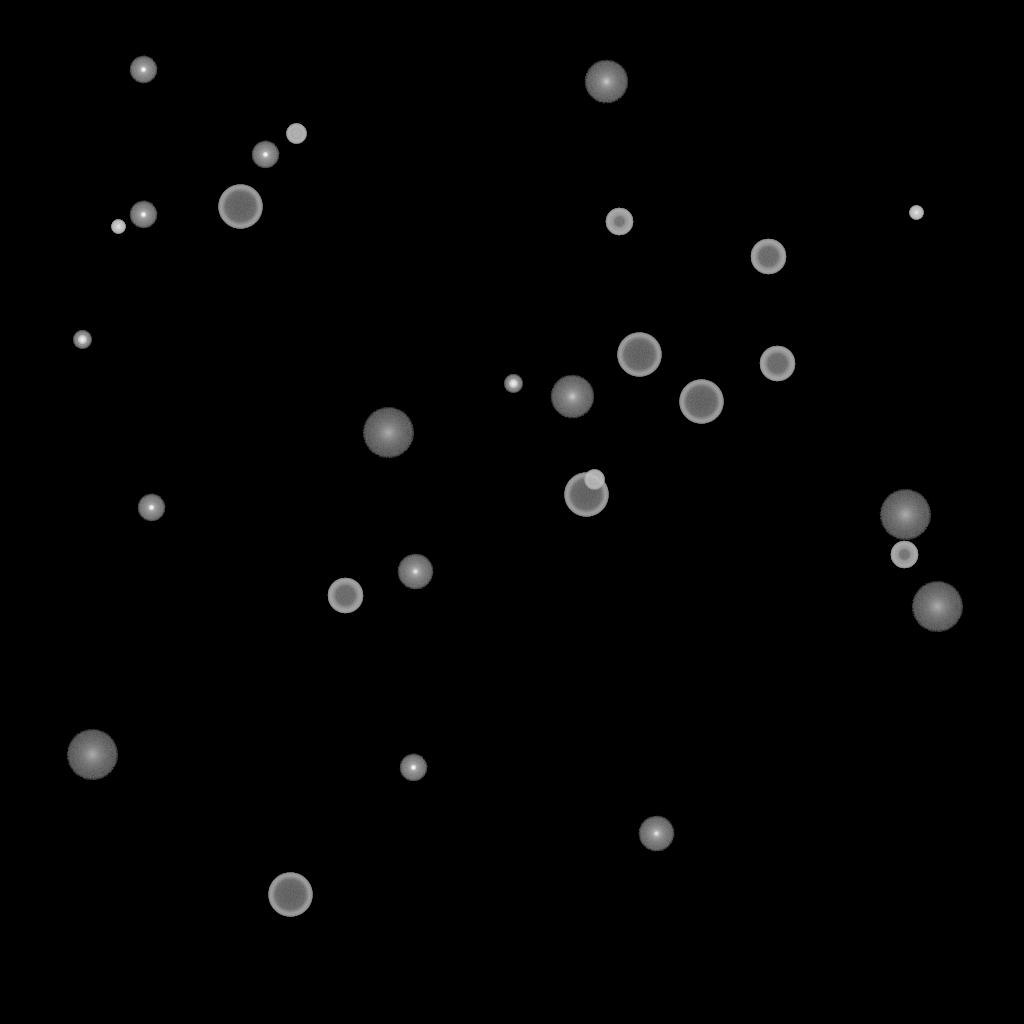depth:-10: (129, 56, 157, 84), (129, 201, 157, 229), (251, 141, 279, 169), (137, 494, 165, 522), (399, 754, 427, 782)
depth:-20: (504, 375, 522, 393), (73, 331, 91, 349)
depth:-30: (111, 220, 125, 234), (909, 206, 923, 220)
depth:-40: (286, 124, 306, 144), (584, 470, 604, 490)
depth:-50: (605, 208, 633, 236), (890, 541, 918, 569)
depth:-60: (327, 578, 363, 614), (750, 239, 786, 275), (759, 346, 795, 382)
depth:-70: (218, 185, 262, 229), (268, 873, 312, 917), (564, 473, 608, 517), (679, 380, 723, 424), (617, 333, 661, 377)
depth:0: (397, 554, 433, 590), (638, 816, 674, 852)
depth:10: (550, 375, 594, 419), (584, 60, 628, 104)
depth:20: (362, 408, 414, 458), (879, 490, 931, 540), (911, 582, 963, 632), (66, 730, 118, 780)
